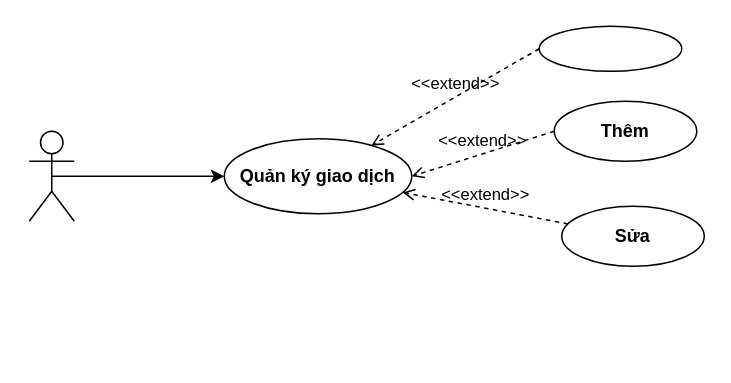
This 731x383 diagram has some shape labels left out. Here are the shapes that lost their labels. From the top down, the centre of each, then its label:
point (610, 48): Tìm kiếm
point (51, 175): Admin
